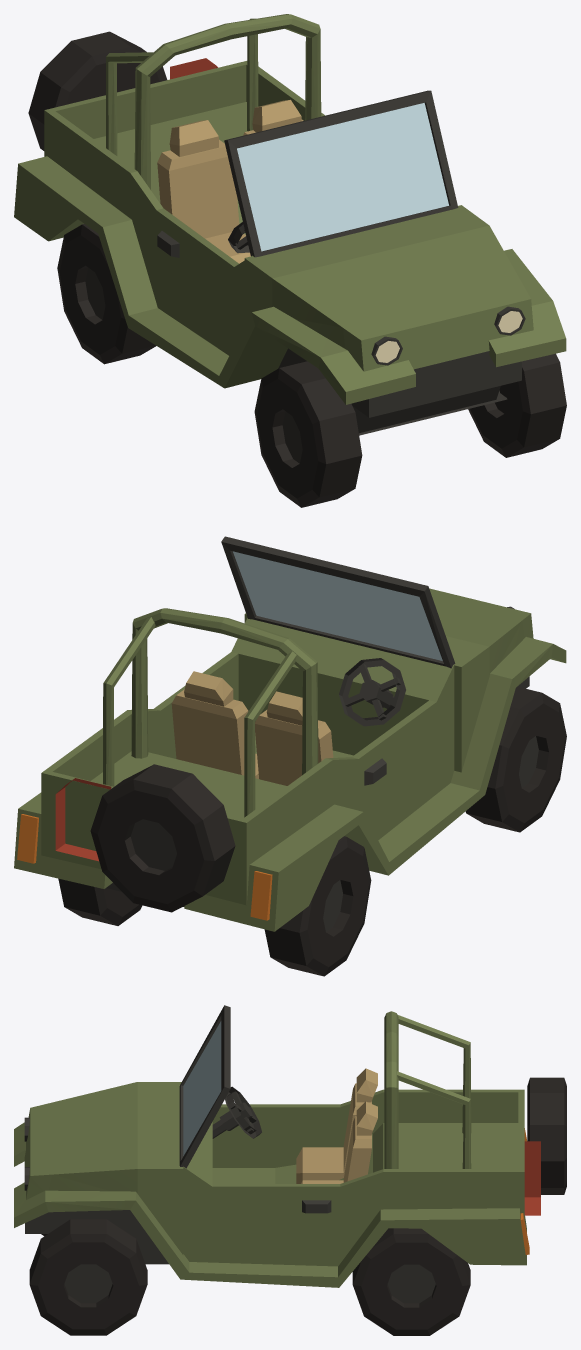
File: DutchJeep.glb
The picture shows the model from 3 angles, top to bottom: view 1: azimuth 30°, elevation 25°; view 2: azimuth 150°, elevation 25°; view 3: azimuth 270°, elevation 25°; orthographic projection. The views are drawn at different scales.
Visible parts, largest first — view 1: MrSirTruck; view 2: MrSirTruck; view 3: MrSirTruck.
Part boxes in pixels (<box>): MrSirTruck: <box>14,14,566,507</box>; MrSirTruck: <box>14,536,566,976</box>; MrSirTruck: <box>14,1005,566,1335</box>.
Size of the model in its own units: 1.79 by 2.05 by 4.01.
